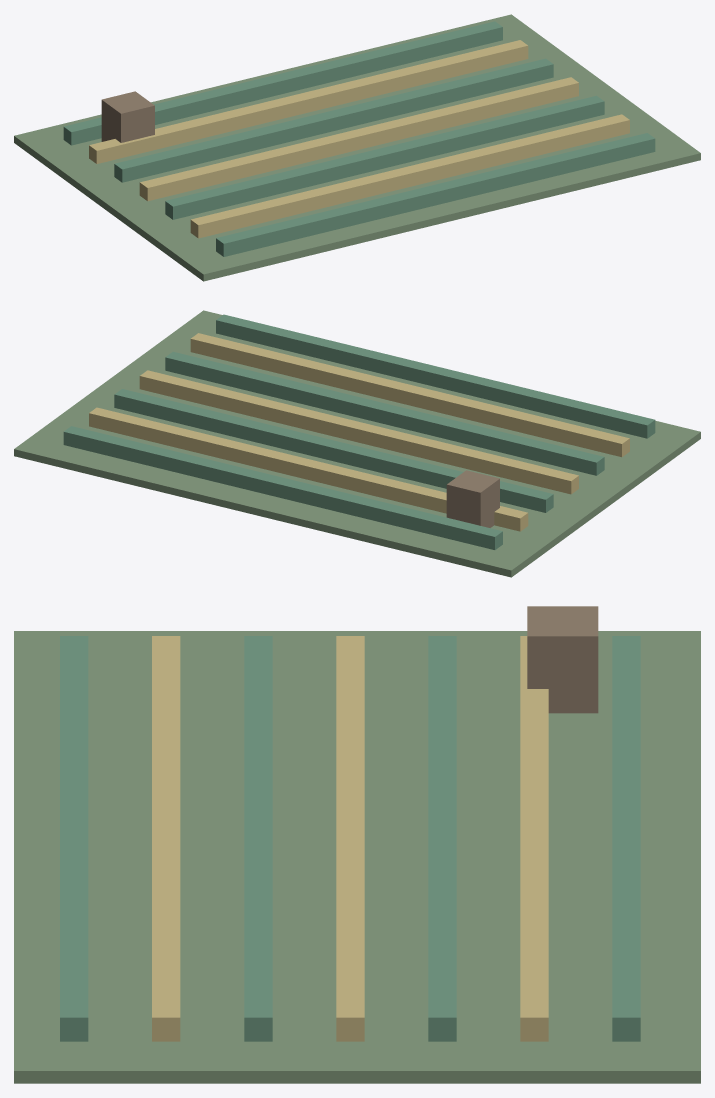
Rendered from grain_field_3x2.glb.
The picture shows the model from 3 angles, top to bottom: view 1: azimuth 30°, elevation 25°; view 2: azimuth 150°, elevation 25°; view 3: azimuth 270°, elevation 25°; orthographic projection. The views are drawn at different scales.
Parts seen in each view (by area): view 1: grain_field_3x2; view 2: grain_field_3x2; view 3: grain_field_3x2.
Boxes of the visible parts, bbox=[...] form: grain_field_3x2: bbox=[14, 14, 700, 281]; grain_field_3x2: bbox=[14, 310, 700, 577]; grain_field_3x2: bbox=[14, 606, 700, 1083].
Bounding box in the file's own units: 5.88 × 0.56 × 3.88.
